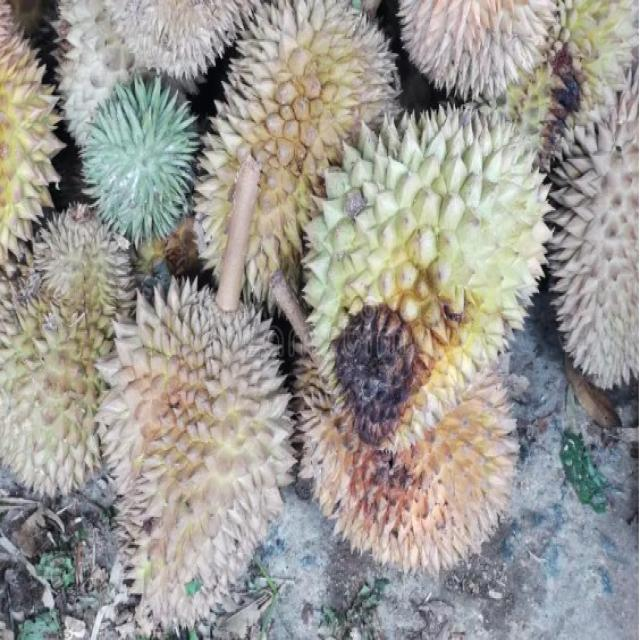defective: (313, 92, 545, 440)
